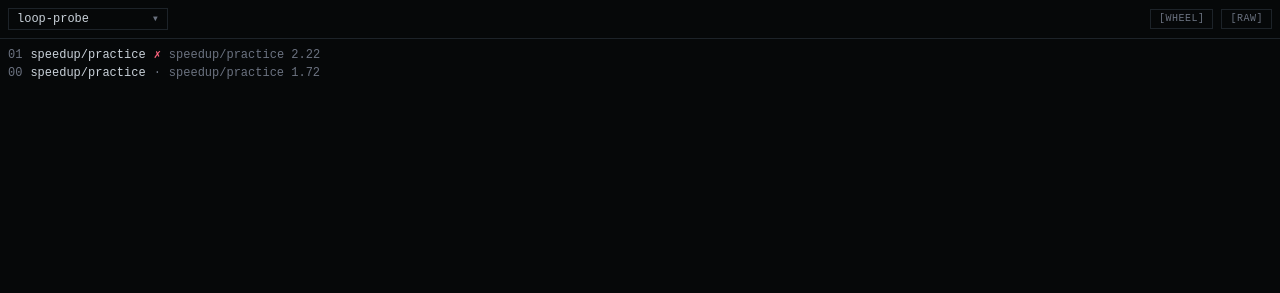
Test: FlywheelPane round detail — per-problem rows › shows a problem whose cell never made it into type_scores
The width and height of the screenshot is (1280, 293).
Click the button "01 speedup/practice ✗ speedup/practice 2.22" at (88, 55), box top-left (8, 47), bottom-right (1272, 63)
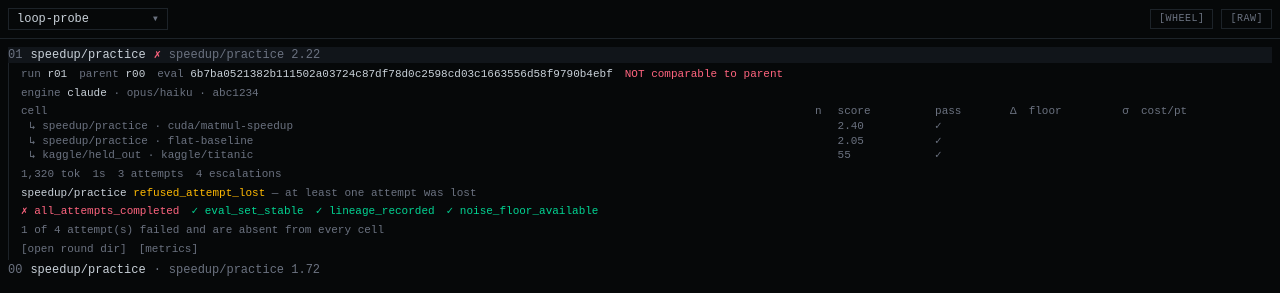
Expected: the text "NOT comparable to parent" is shown, top-left (625, 67), bottom-right (783, 82)
Expected: the text "↳ speedup/practice · cuda/matmul-speedup" is shown, top-left (21, 119), bottom-right (815, 134)
